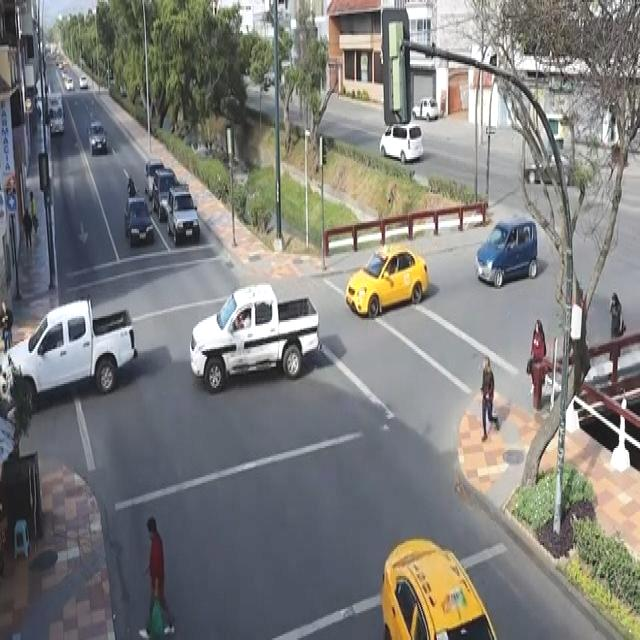CMT: (184, 291, 327, 393), (0, 306, 142, 402)
